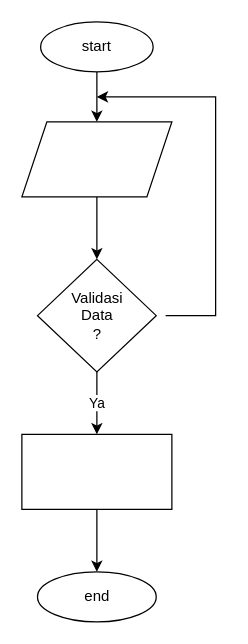
Some shapes in this 248 by 644 pixel diagram are drawn without their labels. Here are the shapes that lost their labels. From the top down, the centre of each, then its label:
At (x=96, y=159): "Masukkan Data".
At (x=96, y=471): "Proses dan simpan Data".
